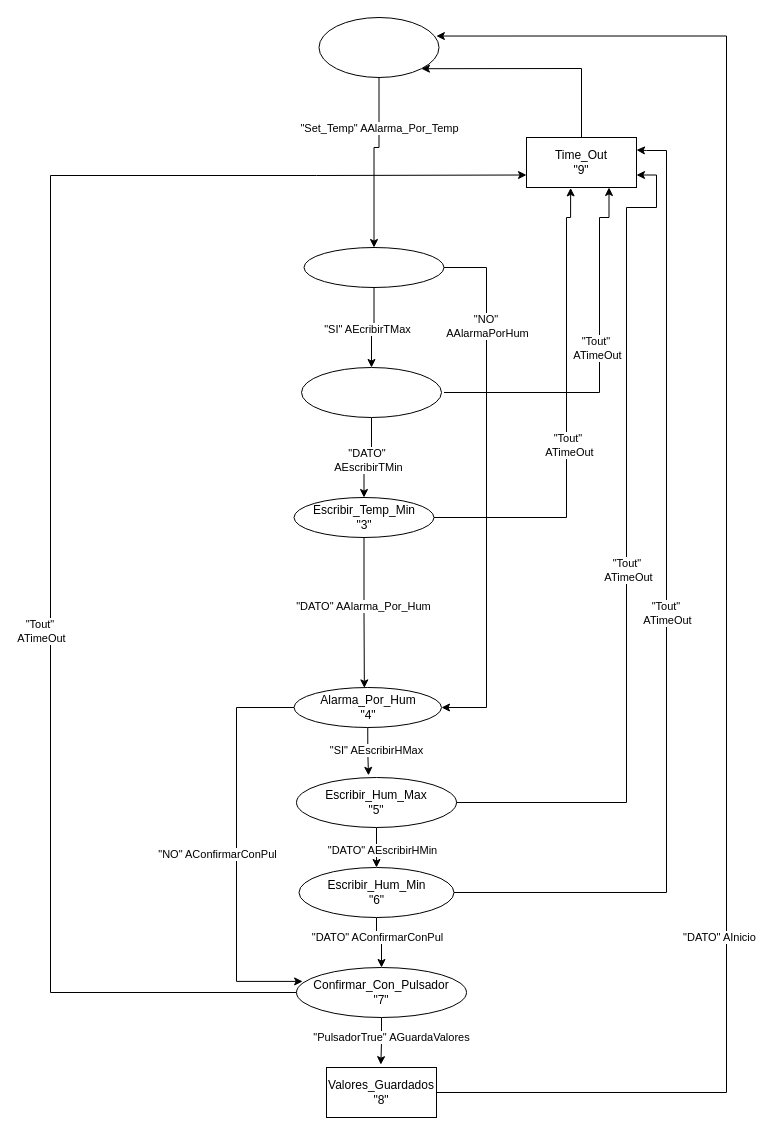
Some shapes in this 773 by 1135 pixel diagram are drawn without their labels. Here are the shapes that lost their labels. From the top down, the box of each, then its label:
(318, 16, 439, 78): Inicio "0"
(303, 246, 444, 288): Alarma_Por_Temp "1"
(300, 366, 442, 418): Escribir_Temp_Max "2"
